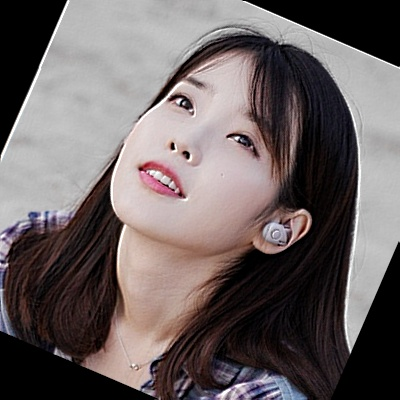earphone: (249, 196, 318, 267)
